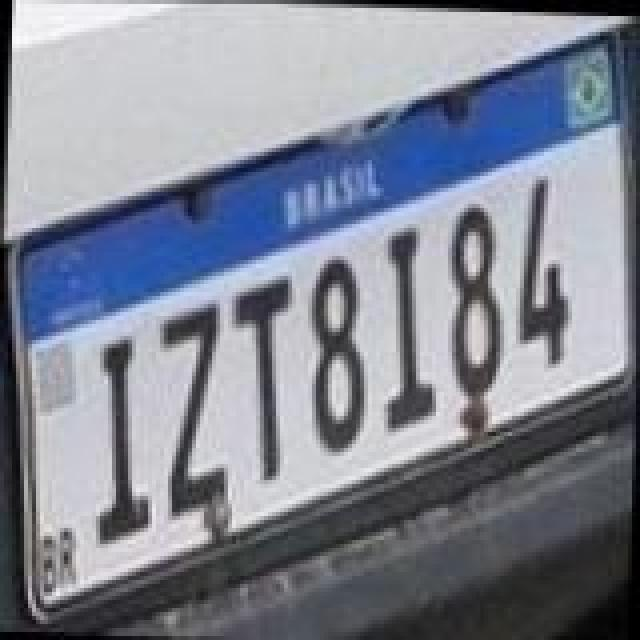4: (514, 174, 574, 370)
8: (302, 248, 374, 452), (442, 198, 510, 394)
I: (92, 330, 160, 546), (378, 224, 442, 436)
T: (226, 270, 294, 482)
Z: (154, 292, 238, 520)
